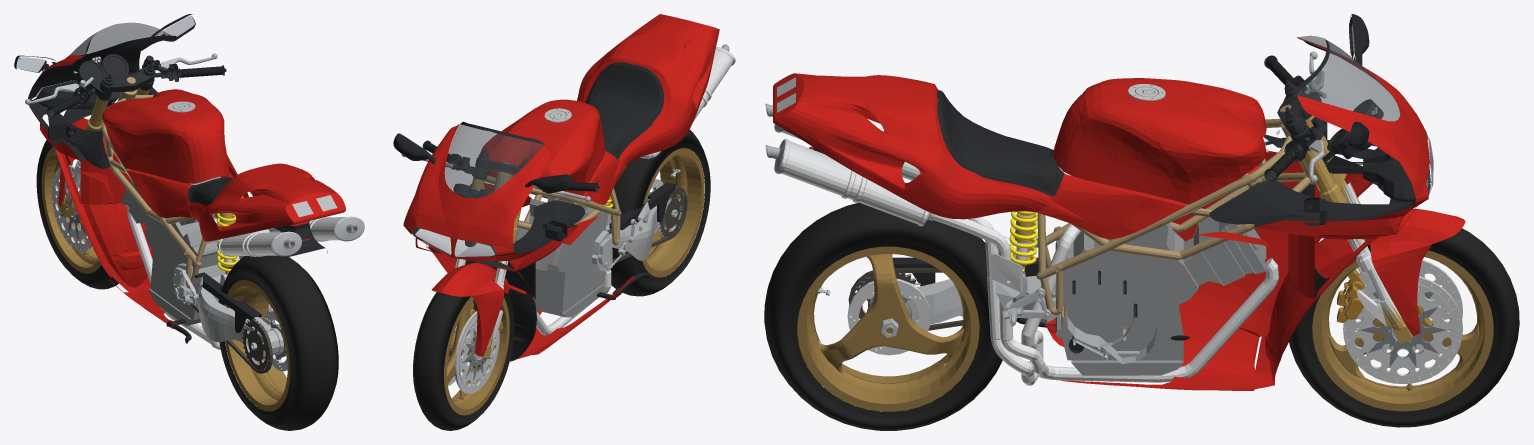
Rendered from ducati916.glb.
3 renders of one model, left to right at view 1: azimuth 30°, elevation 25°; view 2: azimuth 150°, elevation 25°; view 3: azimuth 270°, elevation 25°, orthographic. The views are drawn at different scales.
Parts seen in each view (by area): view 1: RearTire, FuelTank, TailFairing_1, SideLowerFairing, EngineCase_Finned, RearWheelRimSpokes, FrontInnerFairingSupport, TrellisFrame_Main, SingleSidedSwingarm, FrontWheelRimSpokes, HandlebarControl_1, Windscreen (+25 smaller); view 2: TailFairing_1, FrontUpperFairing, FuelTank, FrontTire, EngineCase_Finned, Seat, Windscreen, RearTire, SideLowerFairing, RearWheelRimSpokes, FrontFender, FrontWheelRimSpokes (+21 smaller); view 3: TailFairing_1, FuelTank, RearTire, EngineCase_Finned, SideLowerFairing, RearWheelRimSpokes, FrontTire, FrontWheelRimSpokes, FrontUpperFairing, TrellisFrame_Main, FrontBrakeDisc_0, FrontFender (+21 smaller).
Part boxes in pixels (<box>): RearTire: <box>218,255,338,430</box>; FuelTank: <box>102,89,229,183</box>; TailFairing_1: <box>127,163,345,241</box>; SideLowerFairing: <box>55,149,248,343</box>; EngineCase_Finned: <box>121,176,225,325</box>; RearWheelRimSpokes: <box>224,280,290,411</box>; FrontInnerFairingSupport: <box>28,35,176,160</box>; TrellisFrame_Main: <box>101,77,244,288</box>; SingleSidedSwingarm: <box>191,275,283,354</box>; FrontWheelRimSpokes: <box>41,146,105,273</box>; HandlebarControl_1: <box>46,63,155,117</box>; Windscreen: <box>70,22,169,56</box>; TailFairing_1: <box>577,14,719,204</box>; FrontUpperFairing: <box>403,125,577,271</box>; FuelTank: <box>480,99,605,195</box>; FrontTire: <box>413,280,514,430</box>; EngineCase_Finned: <box>516,196,608,317</box>; Seat: <box>586,62,664,159</box>; Windscreen: <box>445,124,544,197</box>; RearTire: <box>608,129,710,296</box>; SideLowerFairing: <box>428,183,649,361</box>; RearWheelRimSpokes: <box>642,148,704,277</box>; FrontFender: <box>431,263,509,356</box>; FrontWheelRimSpokes: <box>444,296,509,415</box>; TailFairing_1: <box>773,73,1186,239</box>; FuelTank: <box>1052,78,1266,204</box>; RearTire: <box>764,202,1002,430</box>; EngineCase_Finned: <box>1051,175,1266,375</box>; SideLowerFairing: <box>1016,151,1373,390</box>; RearWheelRimSpokes: <box>797,246,979,411</box>; FrontTire: <box>1289,228,1519,427</box>; FrontWheelRimSpokes: <box>1312,250,1493,411</box>; FrontUpperFairing: <box>1255,38,1430,239</box>; TrellisFrame_Main: <box>1036,104,1316,317</box>; FrontBrakeDisc_0: <box>1343,276,1462,383</box>; FrontFender: <box>1314,209,1465,336</box>.
Size of the model in its own units: 0.9195 by 1.29 by 2.32.
